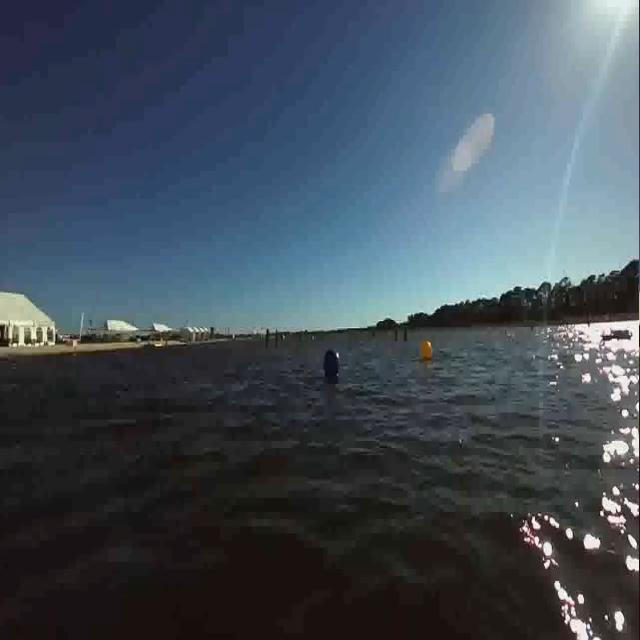blue-buoy: (321, 342, 338, 373)
yellow-buoy: (421, 340, 433, 361)
